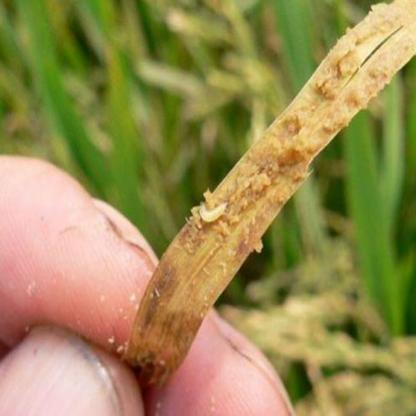whorl-maggot: (193, 200, 235, 225)
